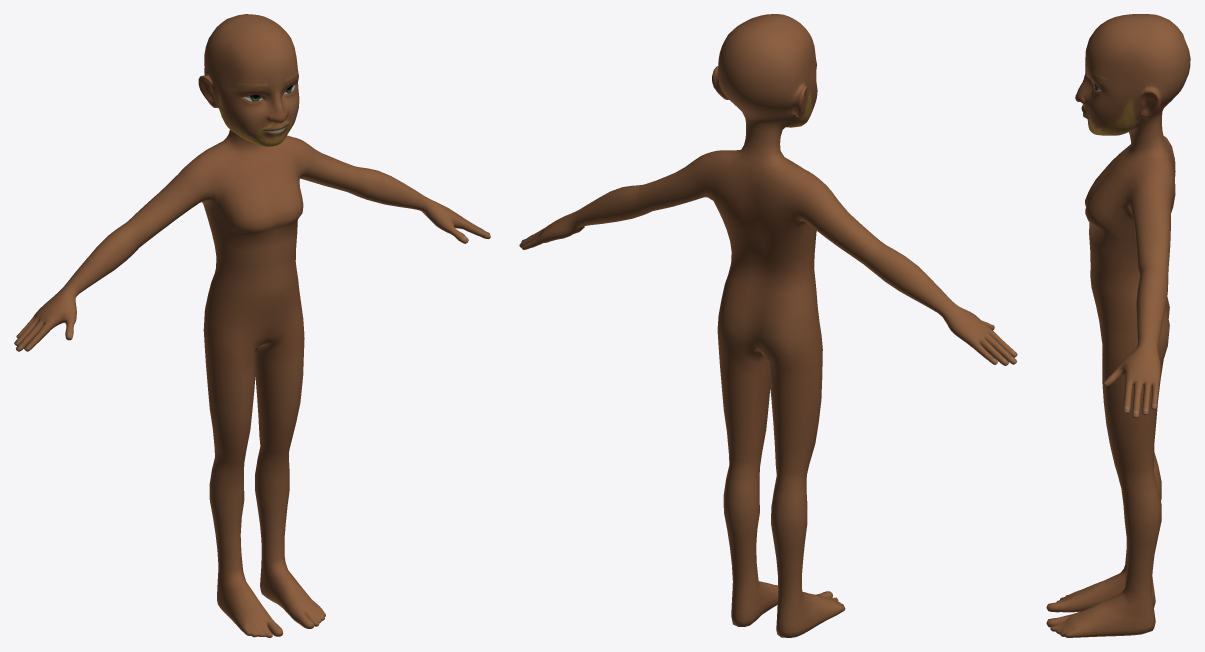
File: frame_0025.glb
3 renders of one model, left to right at view 1: azimuth 30°, elevation 25°; view 2: azimuth 150°, elevation 25°; view 3: azimuth 270°, elevation 25°, orthographic. The views are drawn at different scales.
Visible parts, largest first — view 1: frame_0025_head_geo; view 2: frame_0025_head_geo; view 3: frame_0025_head_geo.
Part boxes in pixels (x1=…): frame_0025_head_geo: x1=14, y1=14, x2=490, y2=637; frame_0025_head_geo: x1=519, y1=14, x2=1017, y2=637; frame_0025_head_geo: x1=1046, y1=14, x2=1190, y2=637.
Size of the model in its own units: 1.28 by 1.5 by 0.3253.
Materials: 3 (3 with a texture image).
